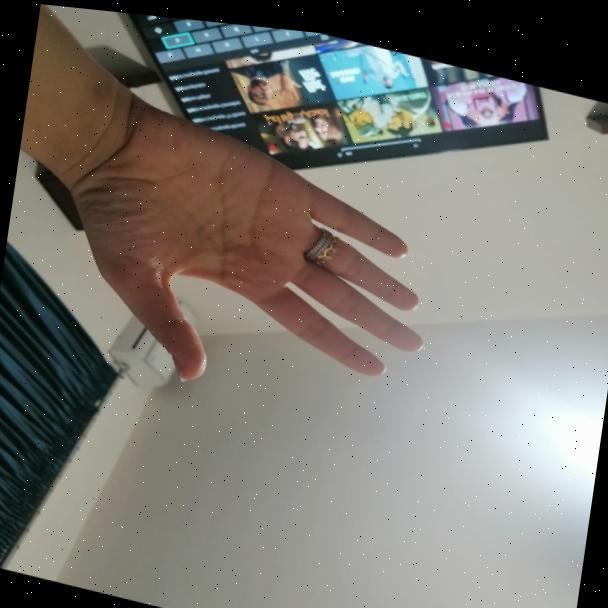two: (64, 103, 454, 430)
